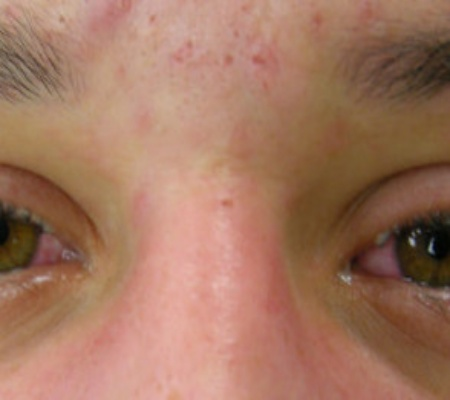SJS-TEN: (0, 0, 450, 242)
